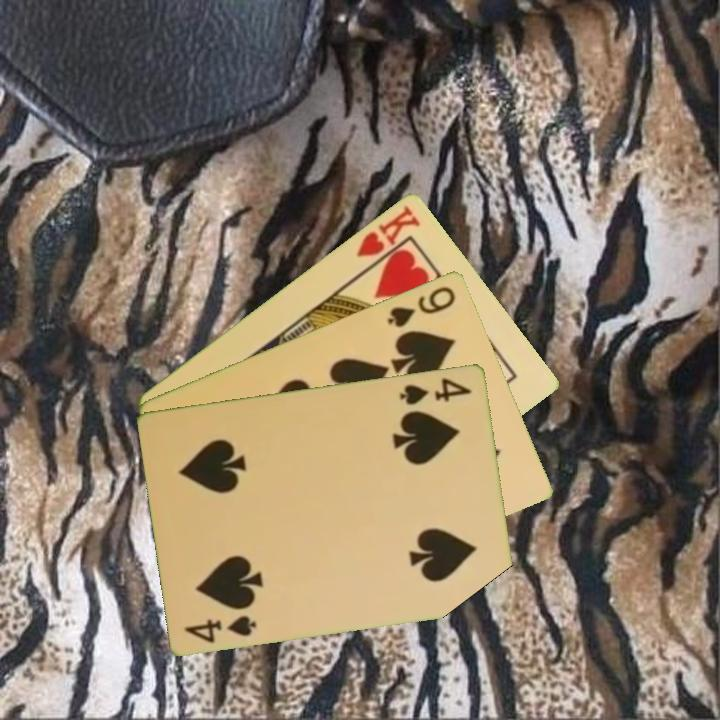4s: (396, 373, 475, 408), (181, 611, 260, 646)
9s: (384, 282, 459, 331)
Kh: (353, 201, 423, 273)
